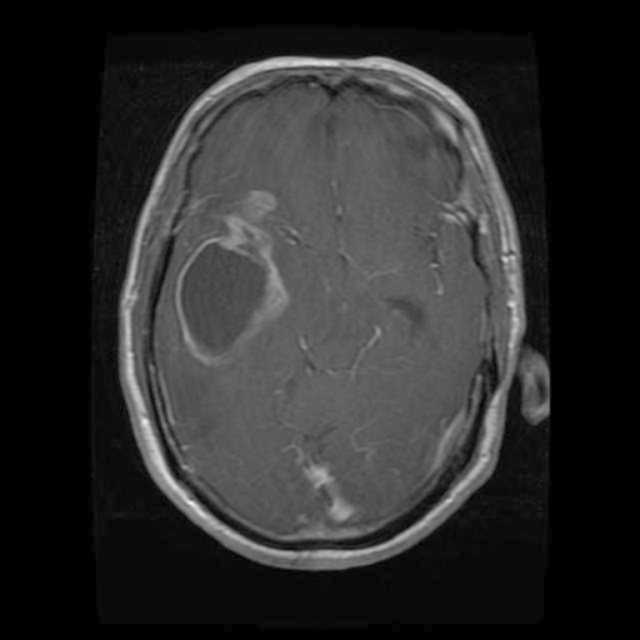pituitary tumor: (176, 208, 272, 362)
